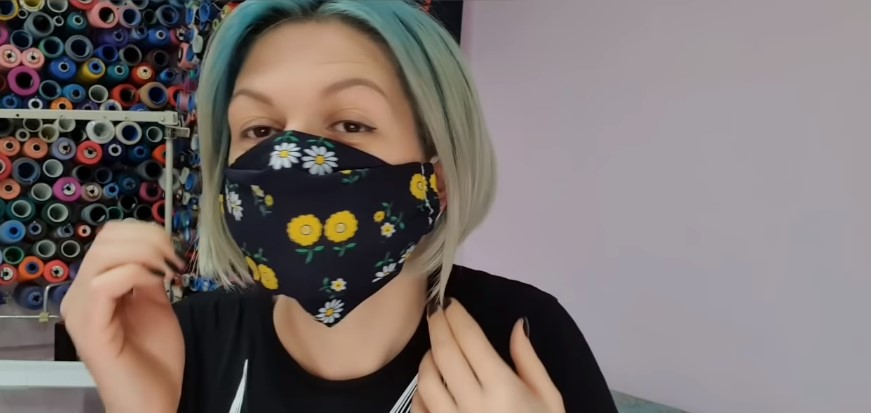face_with_mask: (193, 3, 468, 329)
